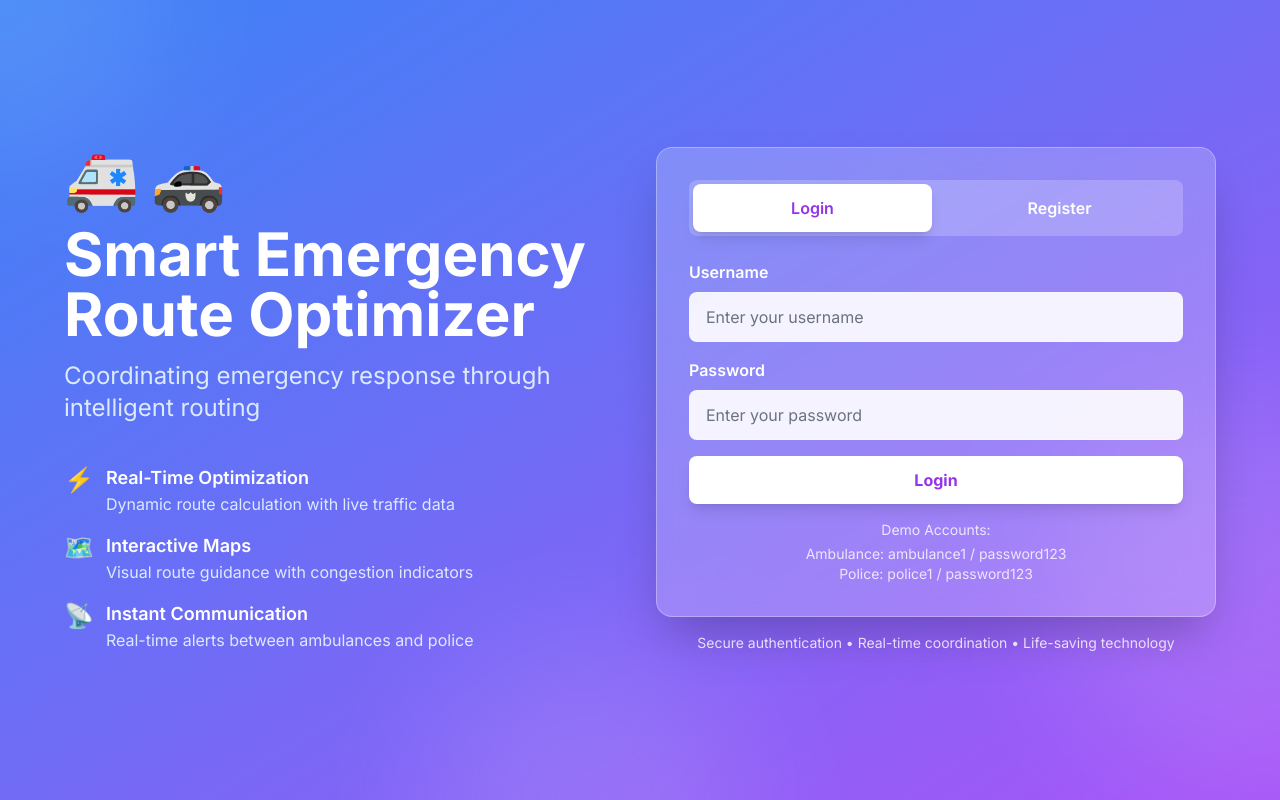
Test: LandingPage › should switch to register form when register tab is clicked
Click the button "Register" at x=1060, y=208, box [940,184,1179,232]
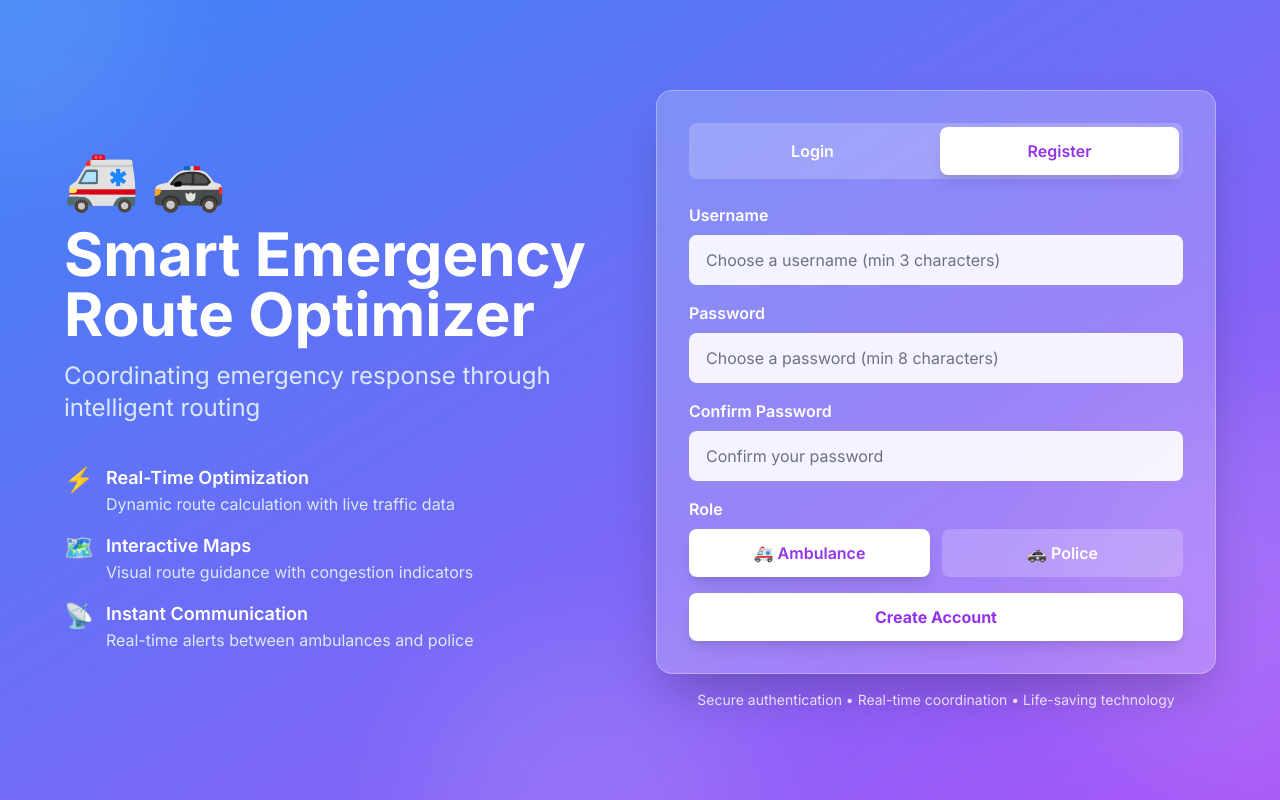
Check: the password field labelled "Confirm Password" is shown, box [689,431,1183,481]
Check: the text "Role" is shown, box [689,499,723,519]
